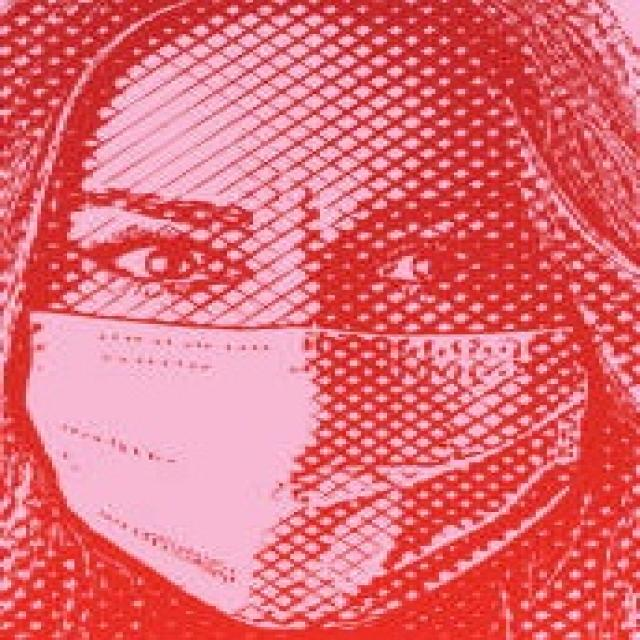Anxiety: (26, 15, 600, 633)
